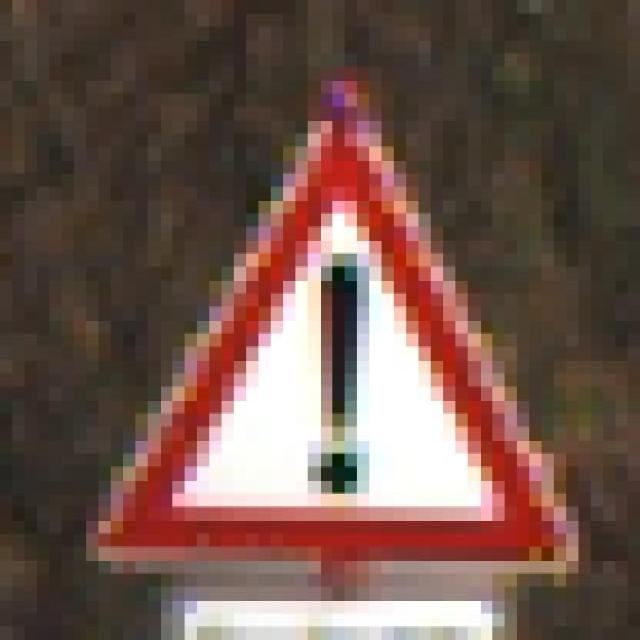Attention Please-: (86, 93, 591, 587)
